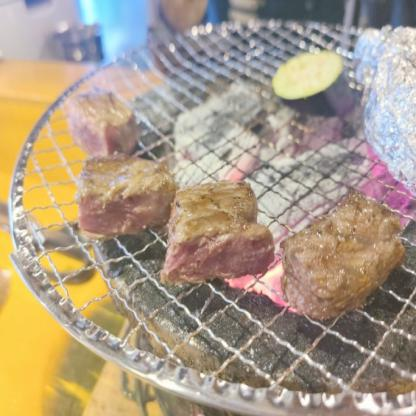Carne: (293, 194, 402, 328), (159, 182, 281, 280), (80, 151, 178, 237), (70, 86, 140, 157)
